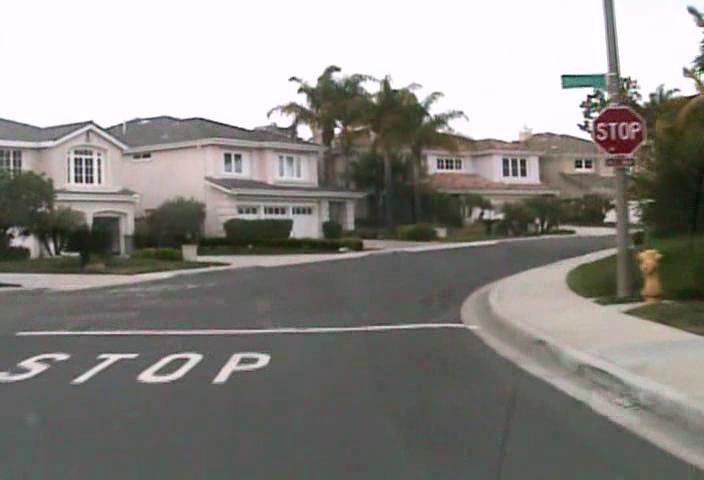stop: (592, 106, 646, 156)
